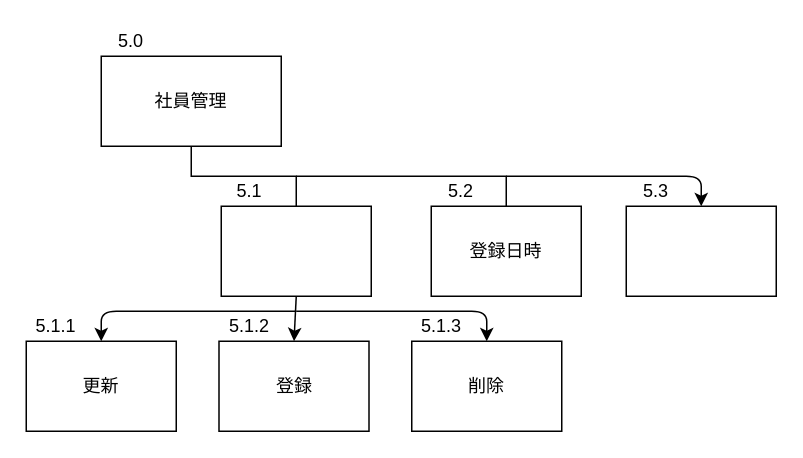
Image size: 803x458. Some labels were removed from this diagram. The shapes that lost their labels are listed below. From the top down, each one's centre as x and y in pixels, then its label:
point 295,250: 社員情報
point 700,250: ログイン
